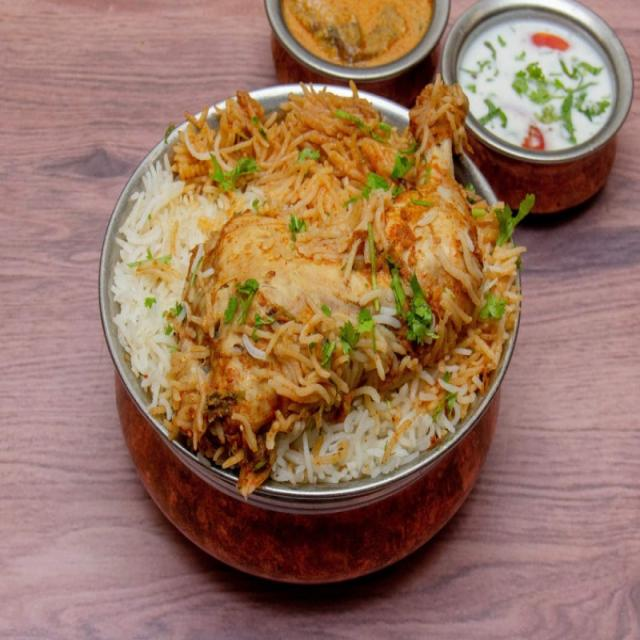Biryani: (111, 89, 520, 576)
